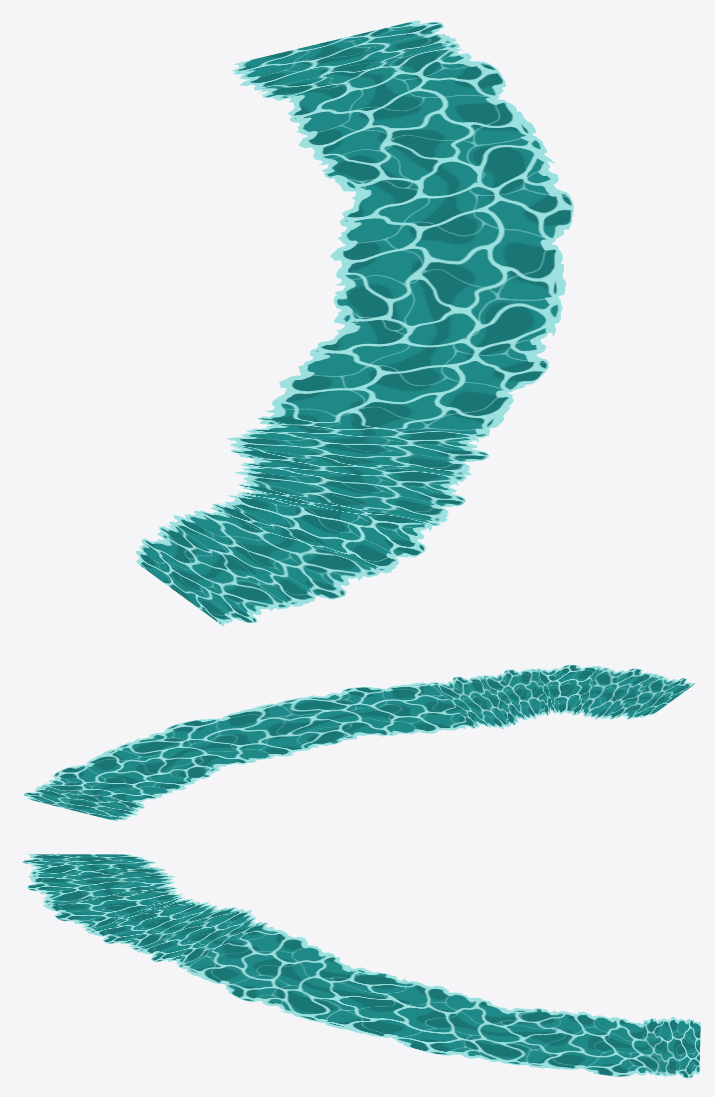
Rendered from River.fbx.
3 views of the same model, one above another, from view 1: azimuth 30°, elevation 25°; view 2: azimuth 150°, elevation 25°; view 3: azimuth 270°, elevation 25° (orthographic). The views are drawn at different scales.
Visible parts, largest first — view 1: Obj_River; view 2: Obj_River; view 3: Obj_River.
Boxes of the visible parts, x1,y1,x2,y2 form: Obj_River: [135, 20, 573, 626]; Obj_River: [23, 664, 695, 821]; Obj_River: [22, 854, 700, 1078].
Size of the model in its own units: 4755 by 0 by 6046.
